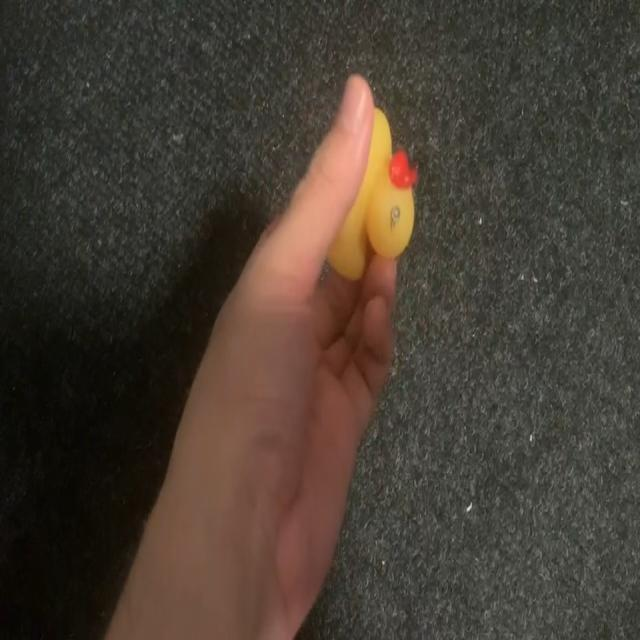rubber-duck: (328, 107, 415, 278)
